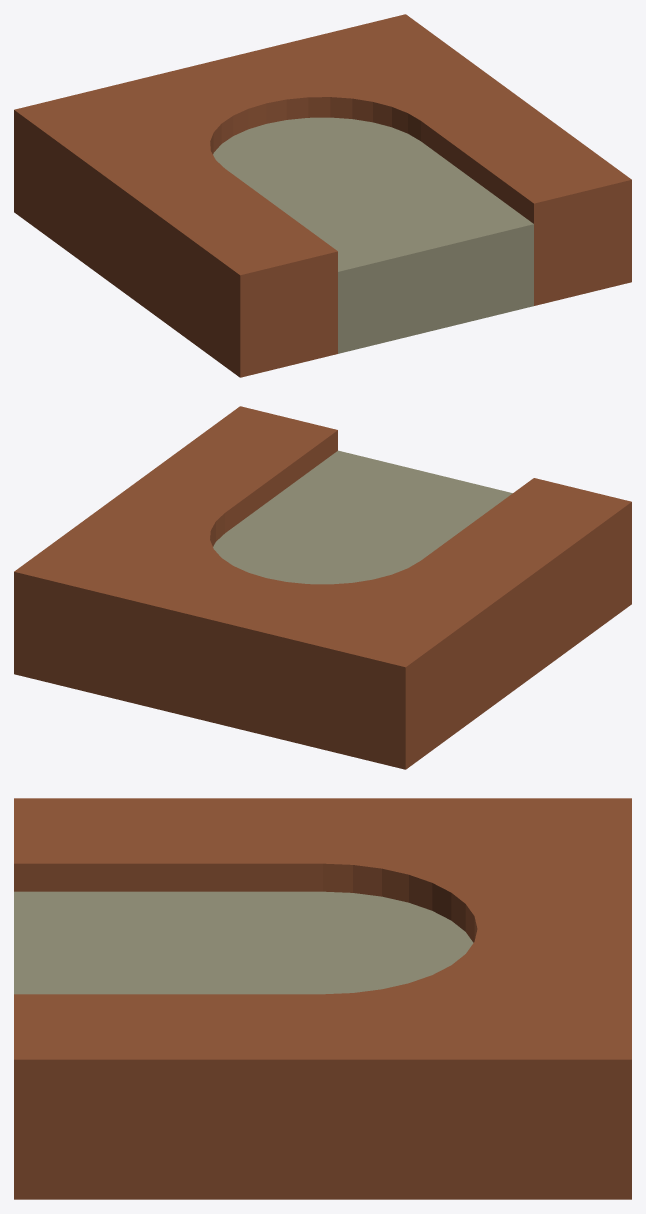
File: Floor-Outdoor-4x4x1-Path-Narrow-End.FBX
3 renders of one model, top to bottom at view 1: azimuth 30°, elevation 25°; view 2: azimuth 150°, elevation 25°; view 3: azimuth 270°, elevation 25°, orthographic. The views are drawn at different scales.
Visible parts, largest first — view 1: Floor-Outdoor-4x4x1-Path-Narrow-End; view 2: Floor-Outdoor-4x4x1-Path-Narrow-End; view 3: Floor-Outdoor-4x4x1-Path-Narrow-End.
Boxes of the visible parts, x1,y1,x2,y2 form: Floor-Outdoor-4x4x1-Path-Narrow-End: (14,14,631,377); Floor-Outdoor-4x4x1-Path-Narrow-End: (14,406,631,769); Floor-Outdoor-4x4x1-Path-Narrow-End: (14,798,631,1199).
Size of the model in its own units: 40 by 40 by 10.
